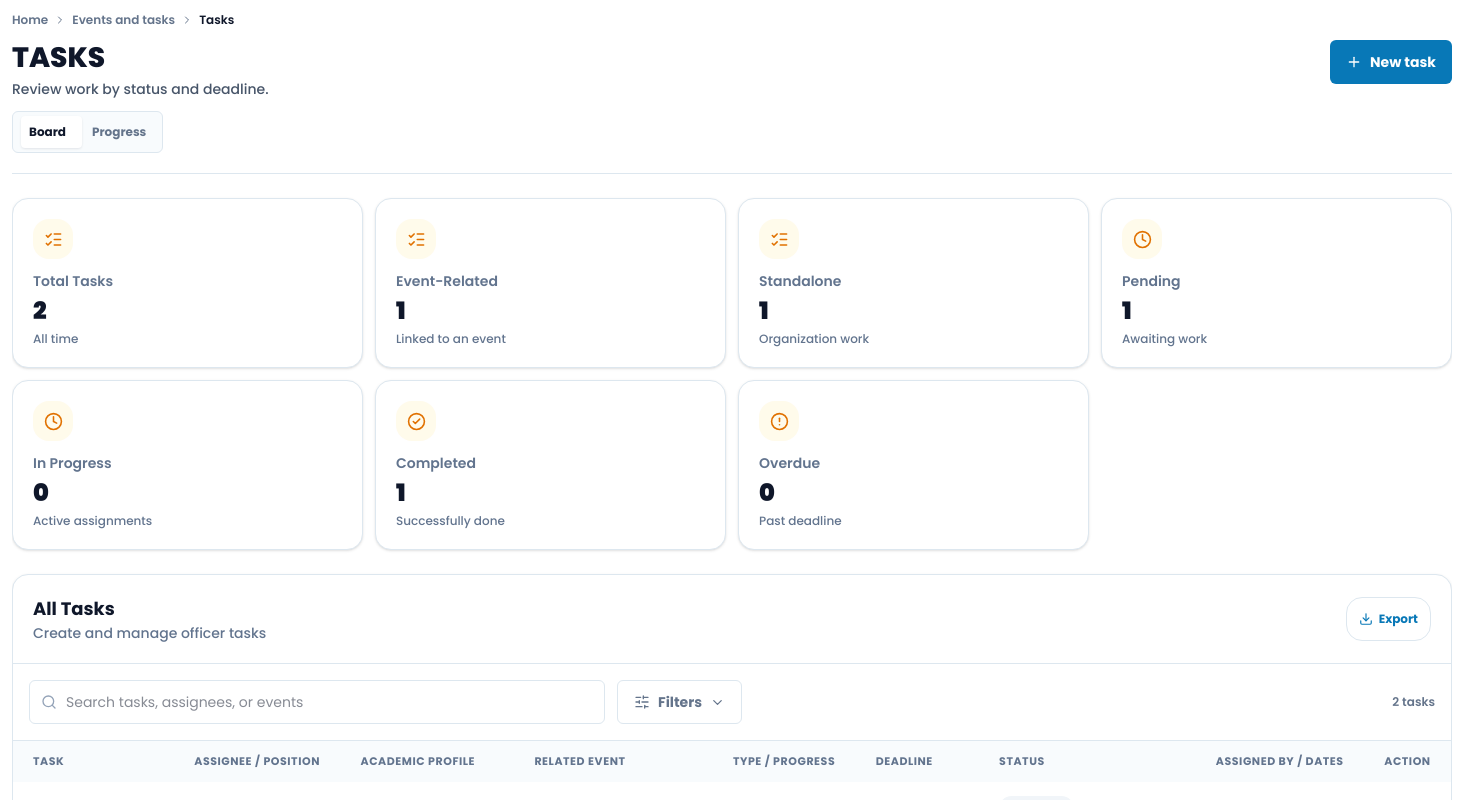
Test: TasksPage › views and query parameters › opens the new task form in place from the header button and records it in the query
What coordinates should you click on to do the following:
click the button "New task"
I would click on:
 (1391, 62)
Its box is left=1330, top=40, right=1452, bottom=84.
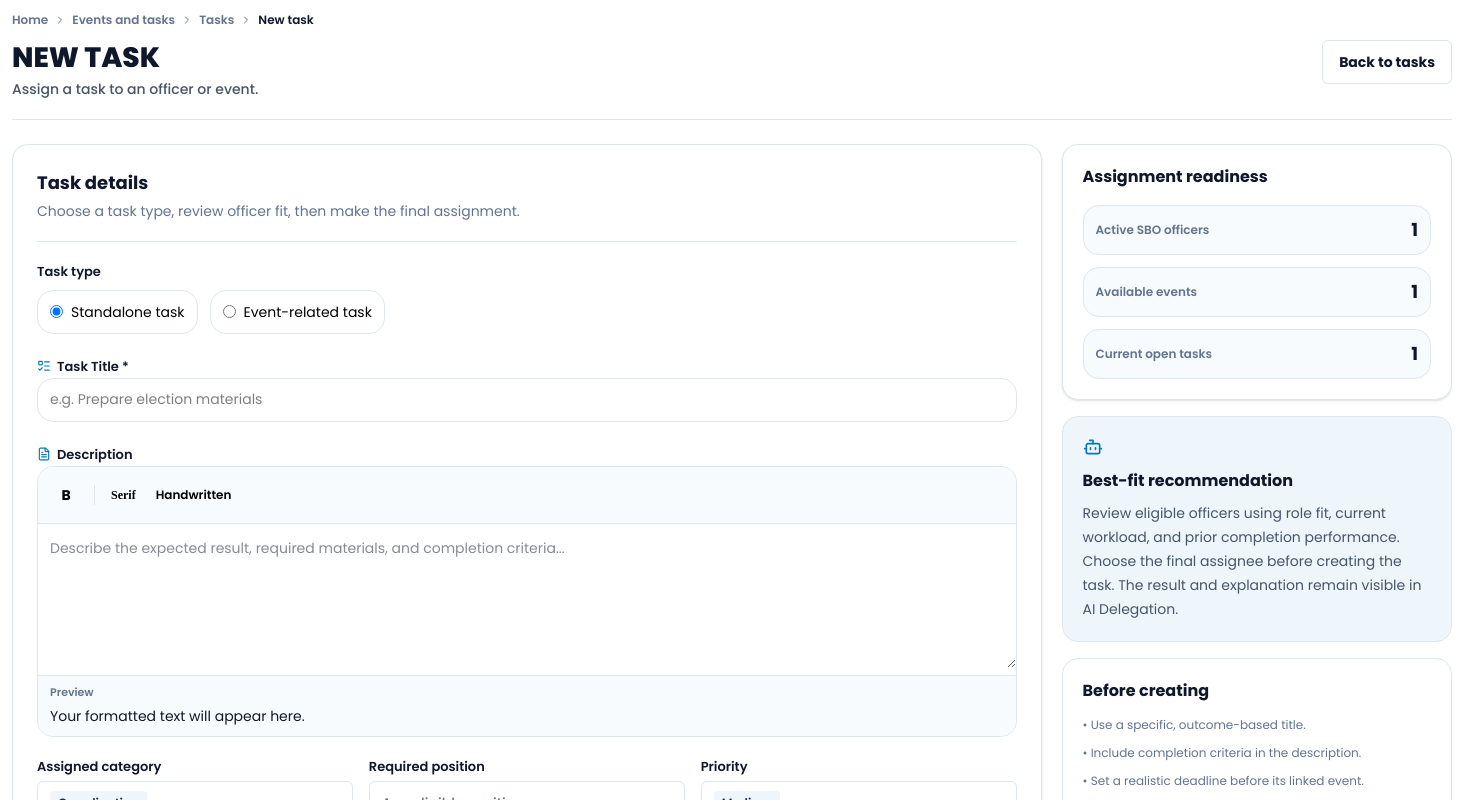
Expected: the field labelled "Task Title *" is shown, left=37, top=378, right=1016, bottom=422
Expected: the heading "New task" is shown, left=12, top=38, right=160, bottom=77
